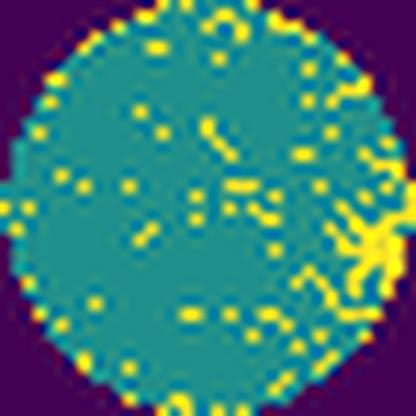Edge-Loc: (323, 145, 415, 302)
